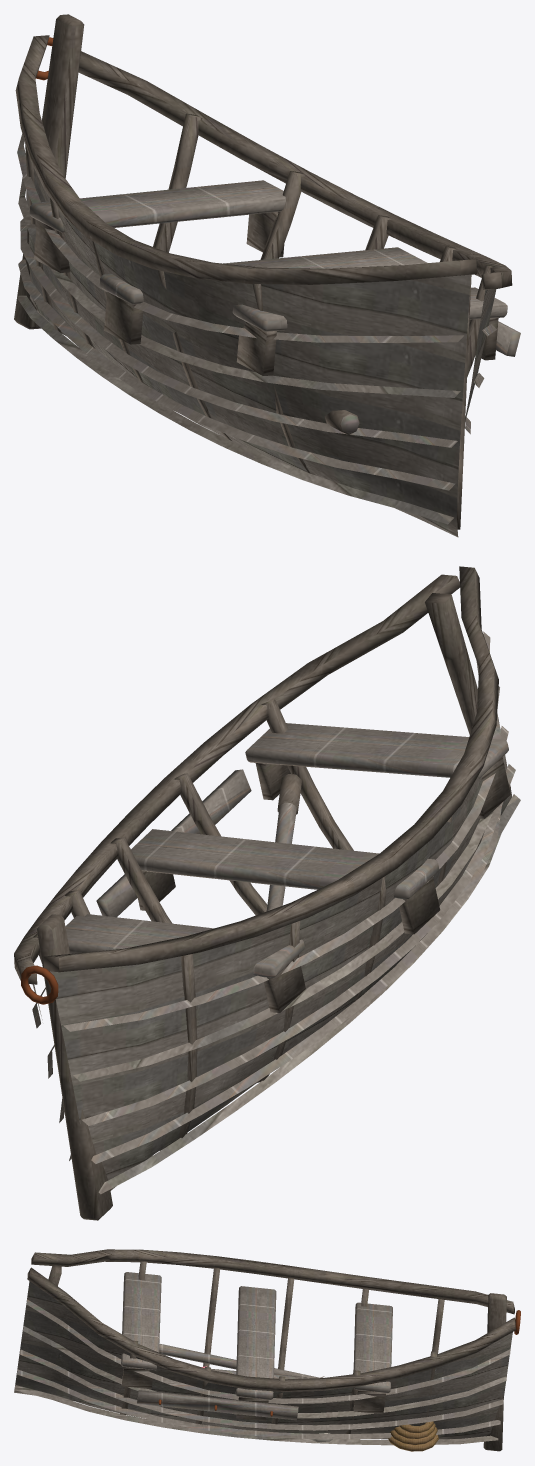
File: rowboat.glb
3 renders of one model, top to bottom at view 1: azimuth 30°, elevation 25°; view 2: azimuth 150°, elevation 25°; view 3: azimuth 270°, elevation 25°, orthographic. The views are drawn at different scales.
Visible parts, largest first — view 1: rowboat; view 2: rowboat; view 3: rowboat.
Part boxes in pixels (x1,y1,x2,y2): rowboat: (14,14,520,537); rowboat: (14,566,520,1220); rowboat: (14,1249,520,1451).
Size of the model in its own units: 1.09 by 1.2 by 2.71.
7 materials, 7 textured.
